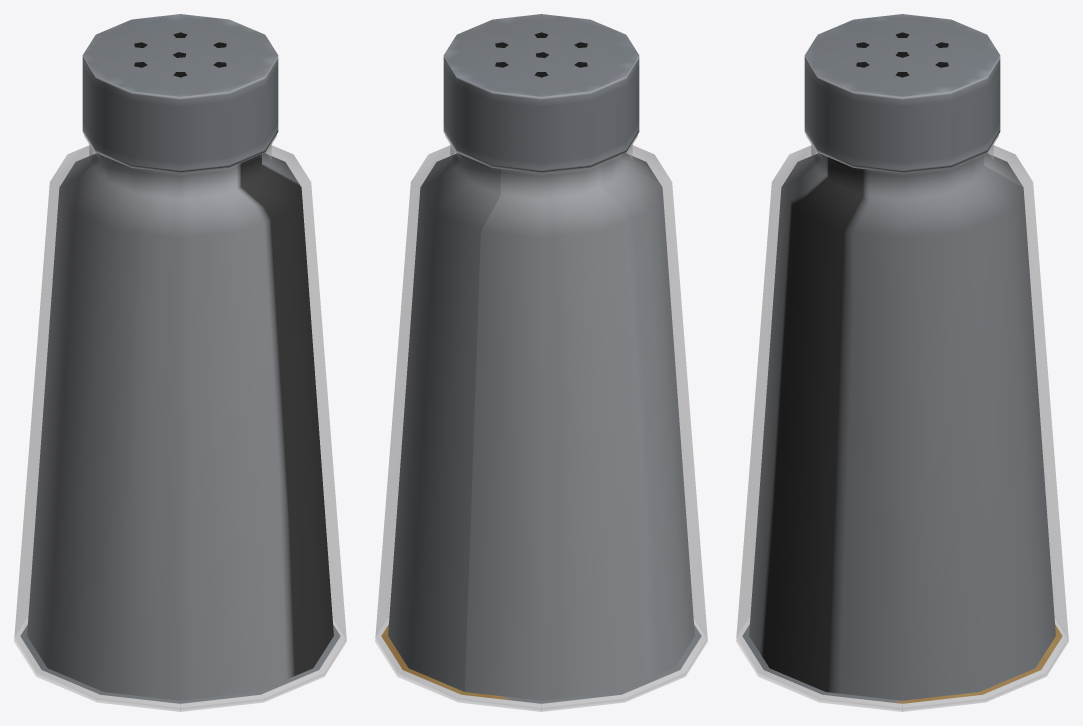
The model's file is pi_currypowder01.gltf.
The picture shows the model from 3 angles, left to right: view 1: azimuth 30°, elevation 25°; view 2: azimuth 150°, elevation 25°; view 3: azimuth 270°, elevation 25°; orthographic projection.
Visible parts, largest first — view 1: nomerge_pi_currypowder01_05_shape:pi_currypowder01_body01_tr, nomerge_pi_currypowder01_02_shape:pi_currypowder01_body01_tr, nomerge_pi_currypowder01_01_shape:pi_currypowder01_body01; view 2: nomerge_pi_currypowder01_05_shape:pi_currypowder01_body01_tr, nomerge_pi_currypowder01_02_shape:pi_currypowder01_body01_tr, nomerge_pi_currypowder01_01_shape:pi_currypowder01_body01; view 3: nomerge_pi_currypowder01_05_shape:pi_currypowder01_body01_tr, nomerge_pi_currypowder01_02_shape:pi_currypowder01_body01_tr, nomerge_pi_currypowder01_01_shape:pi_currypowder01_body01.
Boxes of the visible parts, bbox=[...] form: nomerge_pi_currypowder01_05_shape:pi_currypowder01_body01_tr: bbox=[14, 135, 346, 711]; nomerge_pi_currypowder01_02_shape:pi_currypowder01_body01_tr: bbox=[20, 153, 340, 703]; nomerge_pi_currypowder01_01_shape:pi_currypowder01_body01: bbox=[82, 14, 278, 173]; nomerge_pi_currypowder01_05_shape:pi_currypowder01_body01_tr: bbox=[375, 135, 707, 711]; nomerge_pi_currypowder01_02_shape:pi_currypowder01_body01_tr: bbox=[381, 153, 701, 703]; nomerge_pi_currypowder01_01_shape:pi_currypowder01_body01: bbox=[443, 14, 639, 173]; nomerge_pi_currypowder01_05_shape:pi_currypowder01_body01_tr: bbox=[736, 135, 1068, 711]; nomerge_pi_currypowder01_02_shape:pi_currypowder01_body01_tr: bbox=[742, 153, 1062, 703]; nomerge_pi_currypowder01_01_shape:pi_currypowder01_body01: bbox=[804, 14, 1000, 173].
Size of the model in its own units: 0.0501 by 0.0974 by 0.0501.
2 materials, 2 textured.
